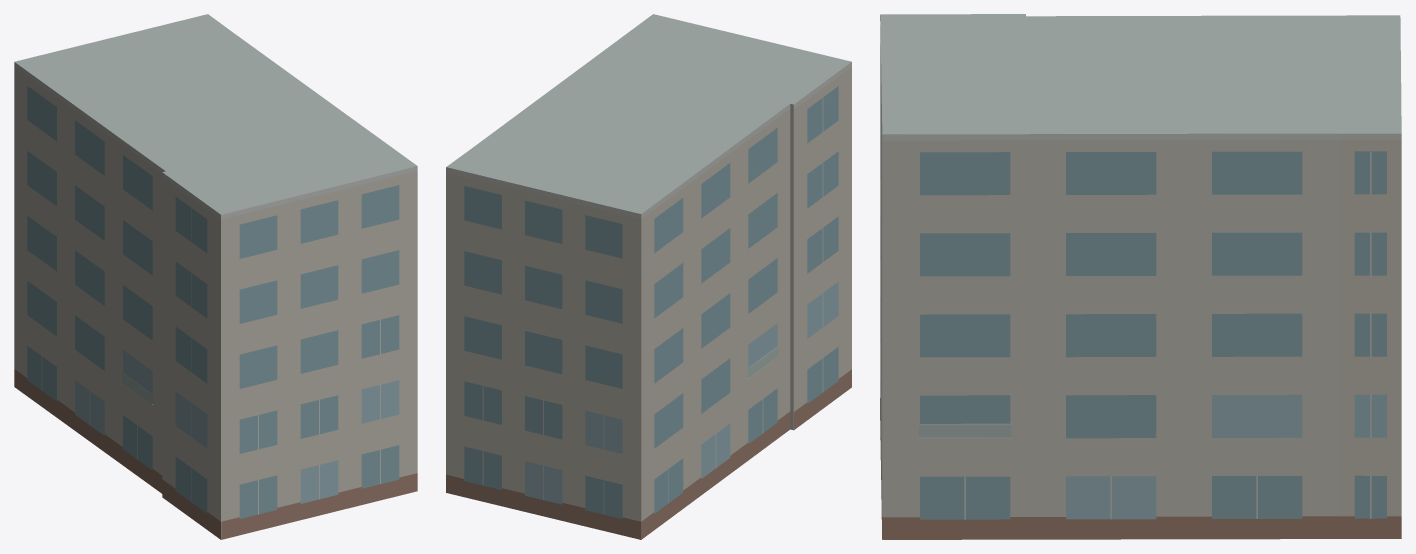
Rendered from survey-upis-32620453.glb.
3 renders of one model, left to right at view 1: azimuth 30°, elevation 25°; view 2: azimuth 150°, elevation 25°; view 3: azimuth 270°, elevation 25°, orthographic. The views are drawn at different scales.
Parts seen in each view (by area): view 1: survey-upis-32620453.tmp; view 2: survey-upis-32620453.tmp; view 3: survey-upis-32620453.tmp.
Part boxes in pixels (left/top/right/bottom): survey-upis-32620453.tmp: left=14, top=14, right=417, bottom=539; survey-upis-32620453.tmp: left=446, top=14, right=851, bottom=539; survey-upis-32620453.tmp: left=880, top=14, right=1401, bottom=539.
Size of the model in its own units: 10.17 by 15.9 by 18.54.
